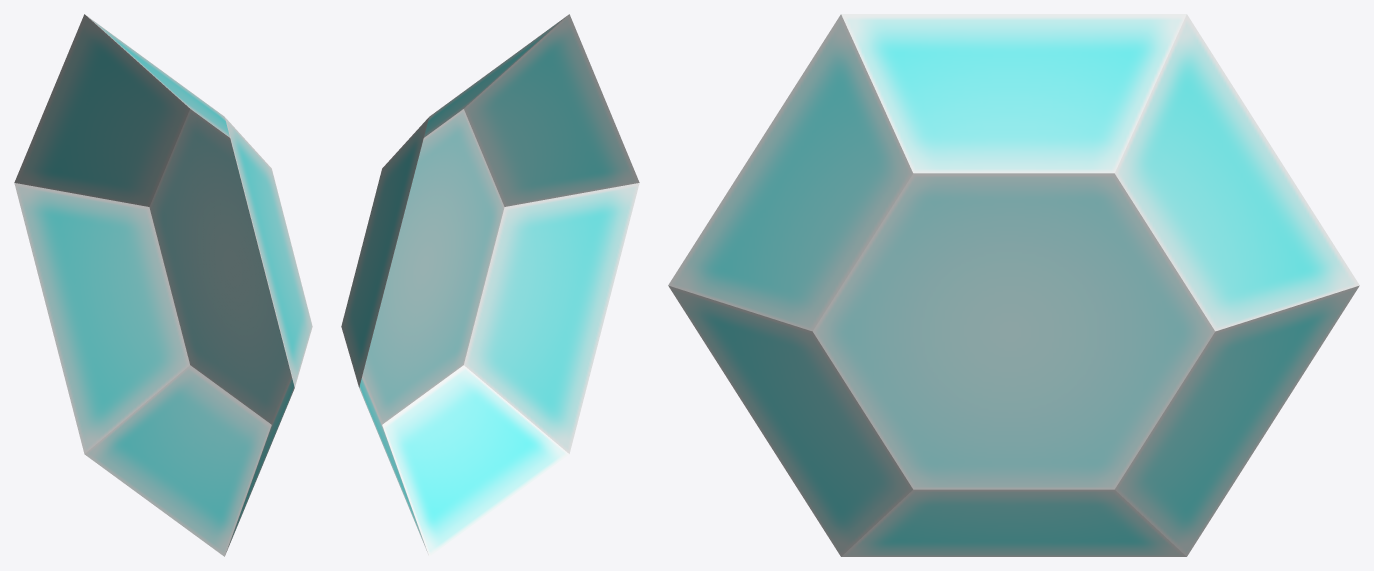
The model's file is shield.fbx.
The picture shows the model from 3 angles, left to right: view 1: azimuth 30°, elevation 25°; view 2: azimuth 150°, elevation 25°; view 3: azimuth 270°, elevation 25°; orthographic projection. The views are drawn at different scales.
Parts seen in each view (by area): view 1: Cylinder; view 2: Cylinder; view 3: Cylinder.
Boxes of the visible parts, bbox=[...] form: Cylinder: bbox=[14, 14, 312, 556]; Cylinder: bbox=[341, 14, 639, 556]; Cylinder: bbox=[668, 14, 1359, 556].
Size of the model in its own units: 31.48 by 173 by 200.
1 material, 1 textured.
